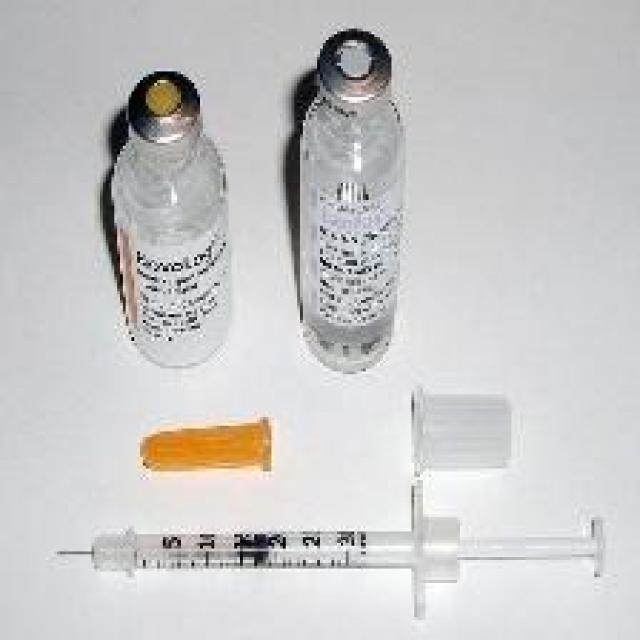syringe: (54, 487, 629, 640)
